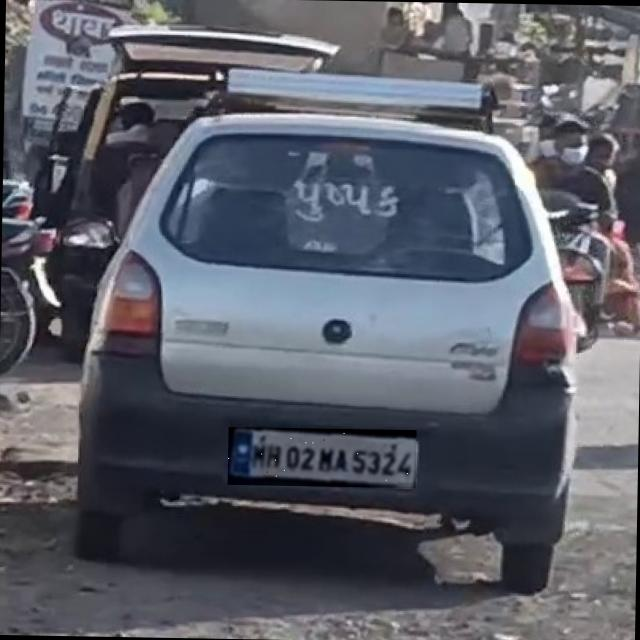Plate: (228, 428, 417, 489)
